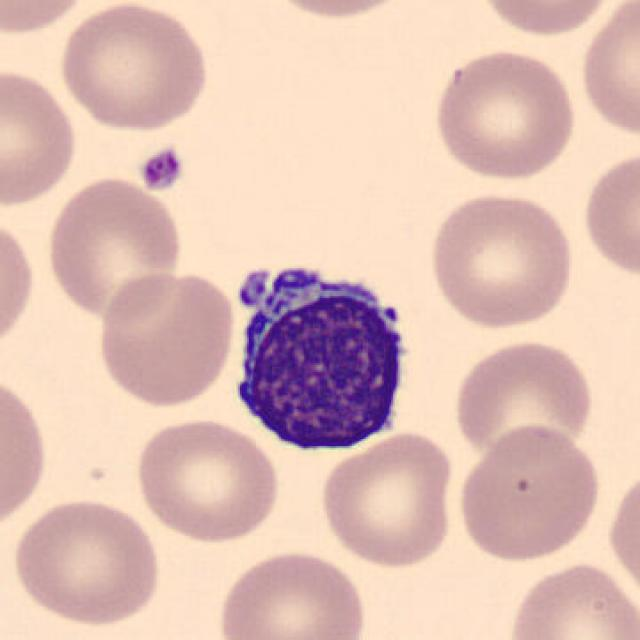Lymphocyte: (221, 249, 423, 460)
Platelets: (137, 145, 187, 194)
RBC: (425, 187, 579, 331), (42, 172, 186, 322), (454, 422, 604, 564), (55, 0, 213, 134), (428, 44, 580, 183), (9, 494, 163, 630), (92, 268, 238, 409), (316, 428, 458, 572), (132, 414, 282, 545), (450, 335, 597, 462), (213, 546, 371, 640), (0, 65, 82, 208), (503, 557, 638, 640), (0, 367, 52, 538), (576, 0, 638, 141), (578, 144, 640, 284), (471, 0, 622, 39), (0, 210, 39, 358), (604, 462, 640, 605), (256, 0, 421, 23), (0, 0, 94, 39)
